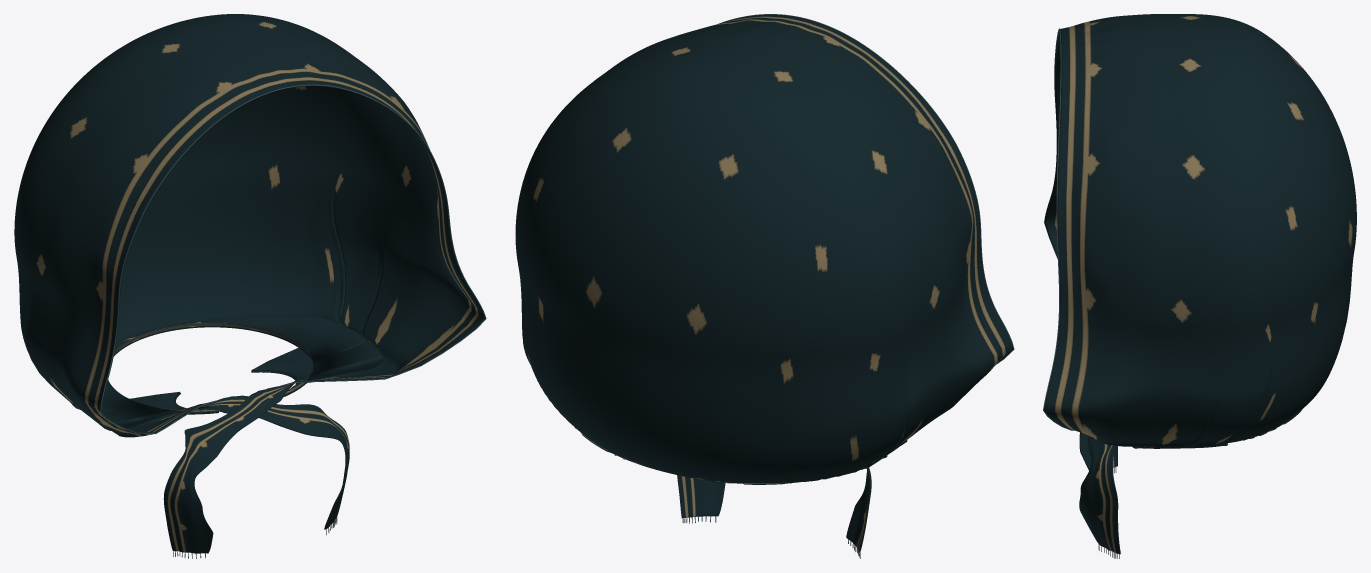
The model's file is Feminine-straight-strappy-pashmina250-headgear.glb.
The picture shows the model from 3 angles, left to right: view 1: azimuth 30°, elevation 25°; view 2: azimuth 150°, elevation 25°; view 3: azimuth 270°, elevation 25°; orthographic projection. The views are drawn at different scales.
Visible parts, largest first — view 1: 226 headgear / Headwear / continuous woven pashmina239, 226 headgear / Headwear / face edge239; view 2: 226 headgear / Headwear / continuous woven pashmina239, 226 headgear / Headwear / face edge239; view 3: 226 headgear / Headwear / continuous woven pashmina239, 226 headgear / Headwear / face edge239.
Boxes of the visible parts, bbox=[...] form: 226 headgear / Headwear / continuous woven pashmina239: bbox=[14, 14, 485, 553]; 226 headgear / Headwear / face edge239: bbox=[100, 84, 486, 434]; 226 headgear / Headwear / continuous woven pashmina239: bbox=[515, 14, 1013, 552]; 226 headgear / Headwear / face edge239: bbox=[718, 14, 1014, 363]; 226 headgear / Headwear / continuous woven pashmina239: bbox=[1044, 14, 1356, 554]; 226 headgear / Headwear / face edge239: bbox=[1043, 28, 1073, 430].
Bounding box in the file's own units: 1.16 × 1.39 × 0.8136.
Materials: 3 (1 with a texture image).
